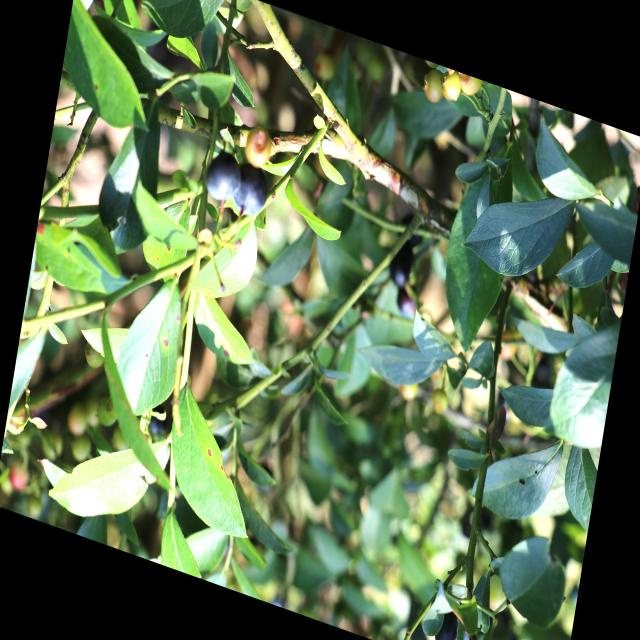blueberry: (228, 154, 273, 222), (202, 146, 245, 208), (426, 601, 474, 640), (396, 281, 424, 321), (386, 250, 414, 289)
blueberry-unripe: (241, 119, 275, 174), (80, 334, 108, 378), (94, 393, 122, 431), (420, 68, 446, 108), (439, 70, 463, 108), (455, 72, 483, 98)
